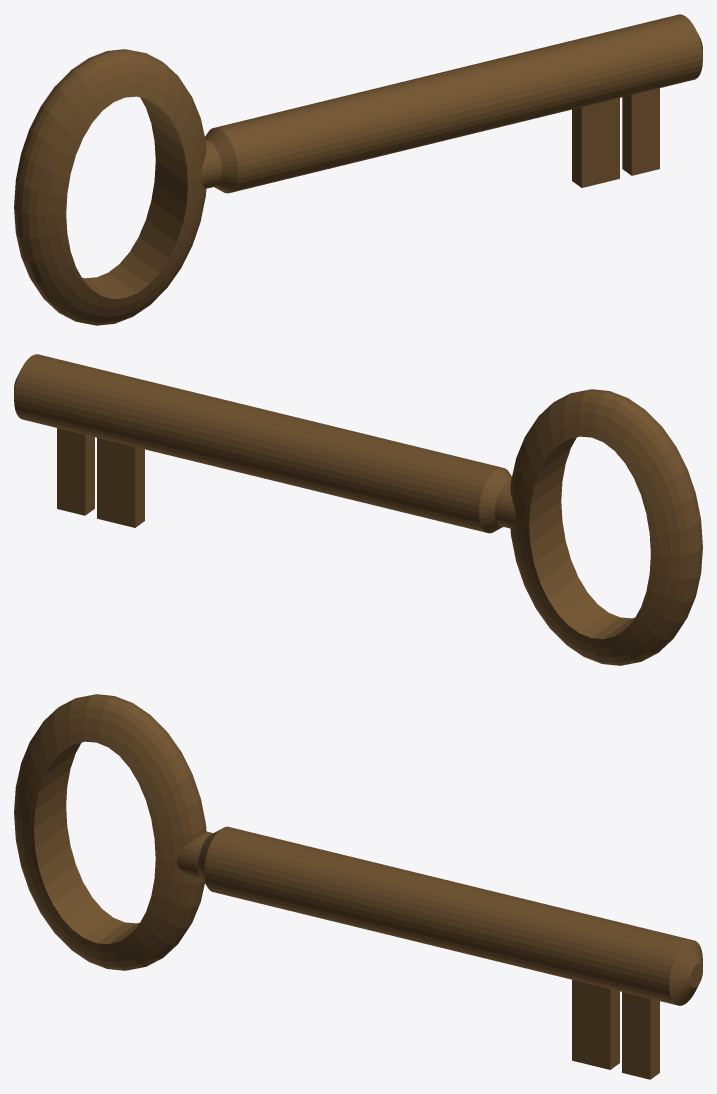
The model's file is Key.fbx.
3 renders of one model, top to bottom at view 1: azimuth 30°, elevation 25°; view 2: azimuth 150°, elevation 25°; view 3: azimuth 330°, elevation 25°, orthographic.
Parts seen in each view (by area): view 1: Cube.002; view 2: Cube.002; view 3: Cube.002.
Boxes of the visible parts, x1,y1,x2,y2 form: Cube.002: (14, 14, 702, 325); Cube.002: (14, 354, 702, 665); Cube.002: (14, 694, 702, 1079).
Size of the model in its own units: 816 by 310 by 70.
